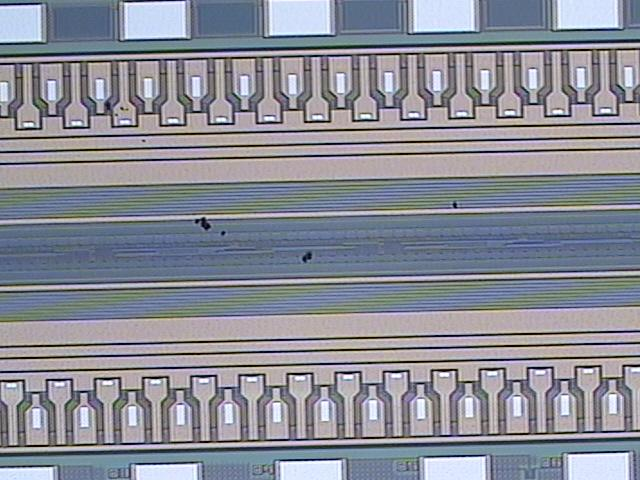PO CONTAMINATION: (109, 100, 467, 269)
